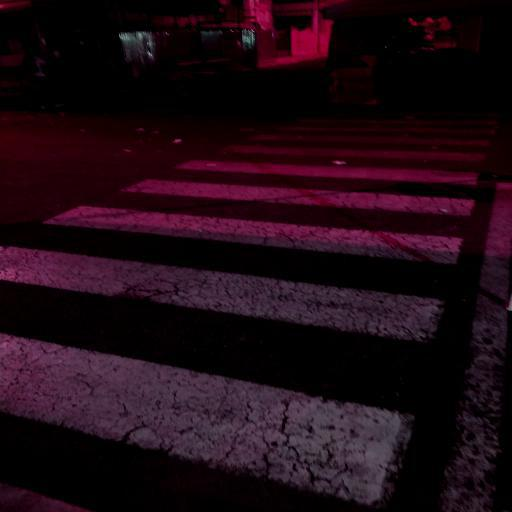crosswalk: (1, 174, 485, 273)
